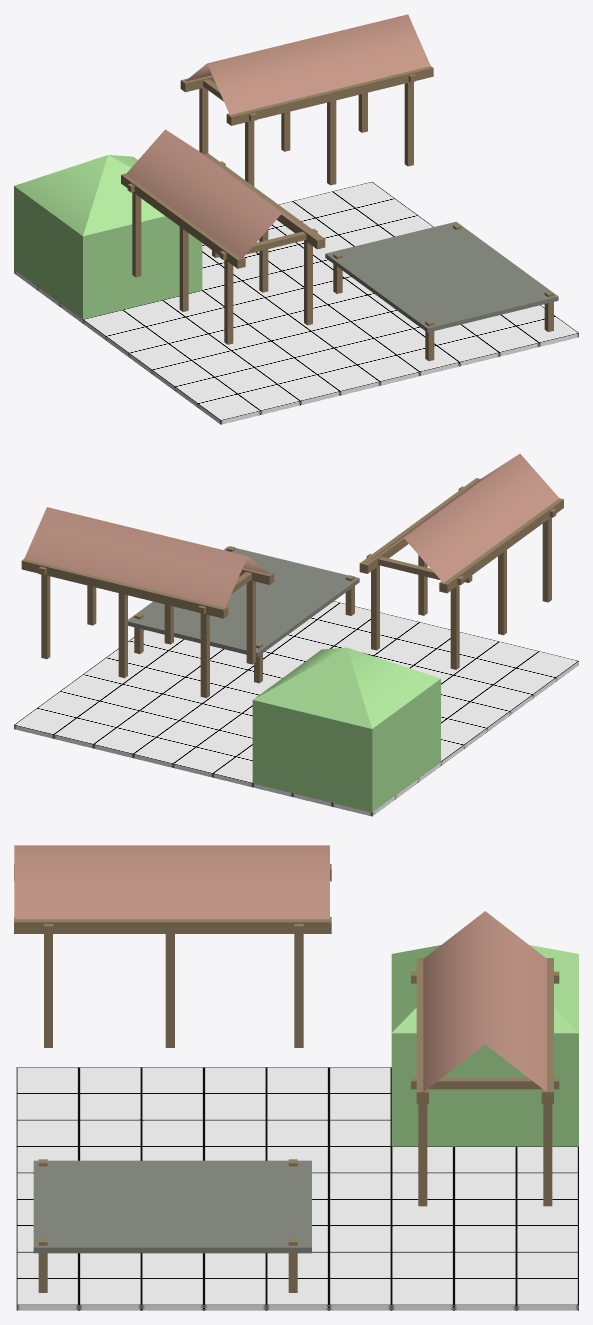
Rendered from XG_Forager.glb.
The picture shows the model from 3 angles, top to bottom: view 1: azimuth 30°, elevation 25°; view 2: azimuth 150°, elevation 25°; view 3: azimuth 270°, elevation 25°; orthographic projection. The views are drawn at different scales.
Visible parts, largest first — view 1: ground_9_x_9_032, building_3m_3m_033, Box825, Plane039, Plane040, Box805, Box815, Box816, Box809, Box811, Box819, Box817 (+5 smaller); view 2: ground_9_x_9_032, building_3m_3m_033, Plane039, Plane040, Box825, Box806, Box815, Box816, Box810, Box808, Box812, Box807 (+6 smaller); view 3: ground_9_x_9_032, Box825, Plane040, building_3m_3m_033, Plane039, Box816, Box814, Box805, Box818, Box820, Box806, Box811 (+2 smaller).
Boxes of the visible parts, x1,y1,x2,y2 form: ground_9_x_9_032: (14, 182, 578, 424); building_3m_3m_033: (14, 155, 202, 319); Box825: (325, 221, 558, 332); Plane039: (185, 14, 430, 114); Plane040: (126, 129, 318, 258); Box805: (226, 66, 433, 125); Box815: (121, 173, 245, 268); Box816: (204, 153, 325, 249); Box809: (327, 100, 336, 185); Box811: (404, 82, 413, 166); Box819: (179, 227, 188, 311); Box817: (132, 192, 141, 277); ground_9_x_9_032: (14, 601, 578, 816); building_3m_3m_033: (252, 647, 440, 812); Plane039: (24, 507, 270, 607); Plane040: (366, 453, 559, 582); Box825: (128, 546, 359, 656); Box806: (21, 559, 228, 618); Box815: (439, 498, 563, 593); Box816: (359, 478, 480, 573); Box810: (118, 593, 127, 678); Box808: (200, 613, 209, 698); Box812: (41, 574, 50, 659); Box807: (246, 580, 255, 664); ground_9_x_9_032: (16, 1067, 578, 1310); Box825: (33, 1160, 311, 1253); Plane040: (14, 845, 329, 919); building_3m_3m_033: (391, 945, 578, 1146); Plane039: (423, 911, 546, 1091); Box816: (14, 917, 331, 933); Box814: (411, 1077, 559, 1089); Box805: (416, 958, 428, 1104); Box818: (294, 934, 303, 1047); Box820: (165, 934, 174, 1047); Box806: (541, 958, 553, 1104); Box811: (418, 1104, 427, 1206).
Bounding box in the file's own units: 9.04 × 4.72 × 9.04.
Materials: 5 (1 with a texture image).
